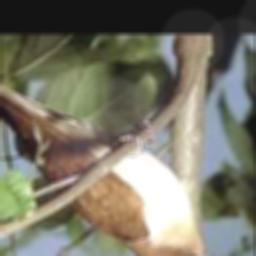Cuckoo: (0, 53, 236, 256)
